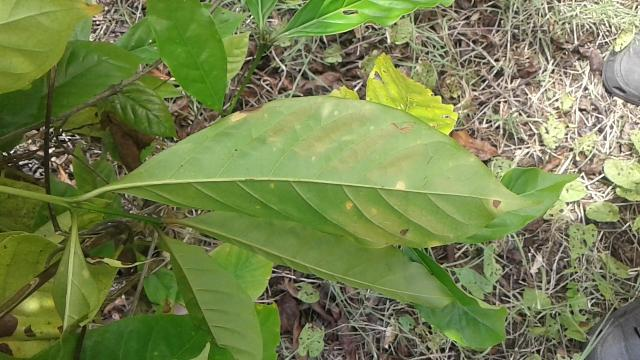rust_level_1: (116, 92, 550, 248)
